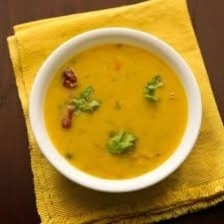dal: (40, 39, 194, 182)
